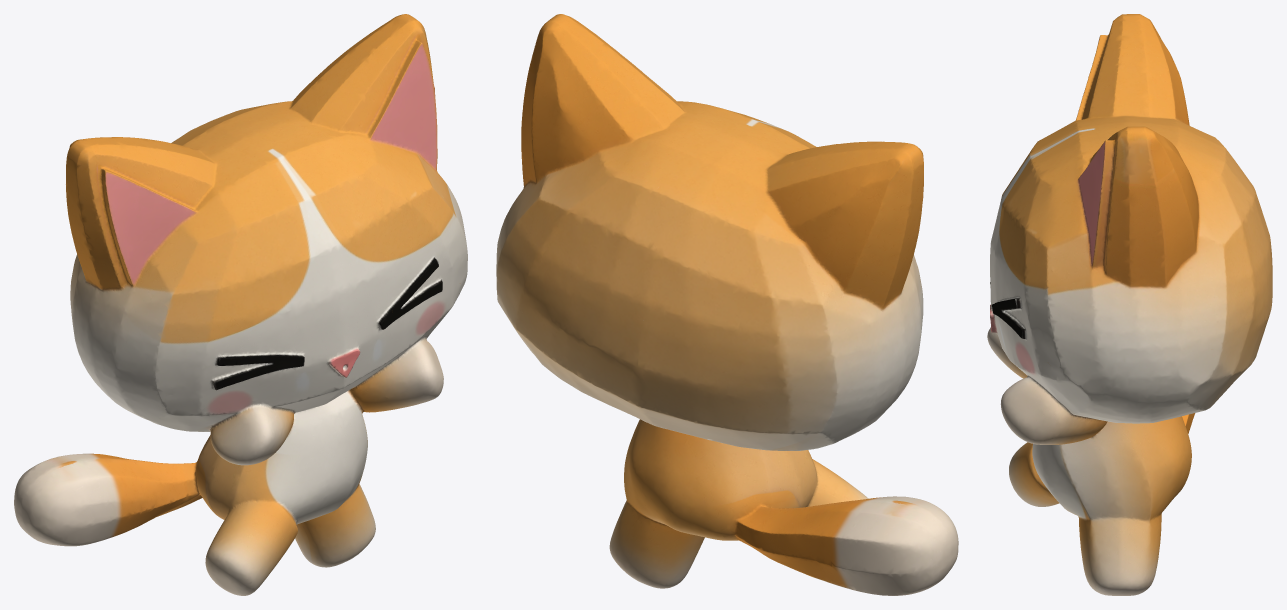
The model's file is tommy.glb.
The picture shows the model from 3 angles, left to right: view 1: azimuth 30°, elevation 25°; view 2: azimuth 150°, elevation 25°; view 3: azimuth 270°, elevation 25°; orthographic projection. The views are drawn at different scales.
Bounding box in the file's own units: 1.61 × 1.9 × 0.9647.
1 material, 1 textured.
